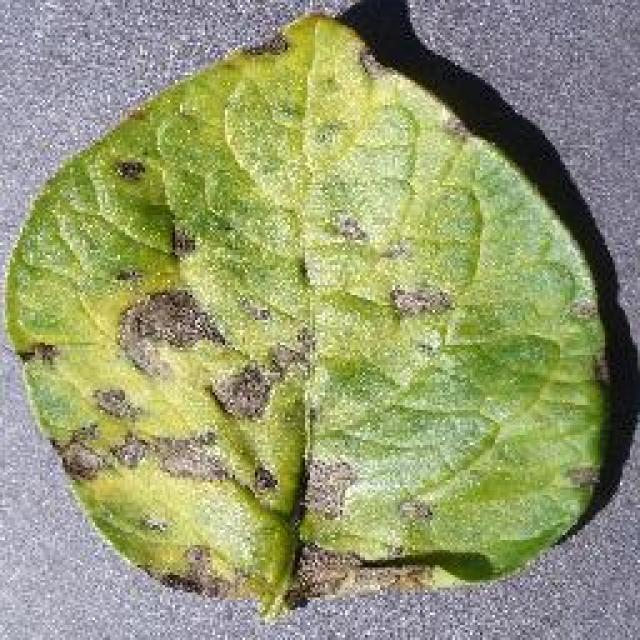early_blight: (0, 5, 618, 623)
